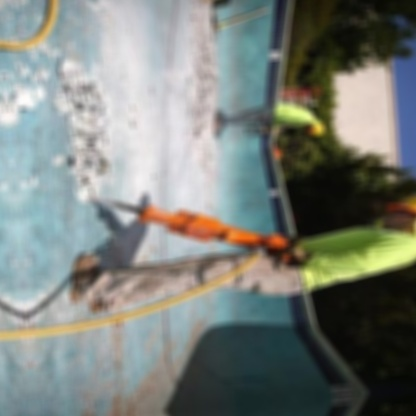yellow: (380, 186, 416, 235), (301, 120, 332, 139)
